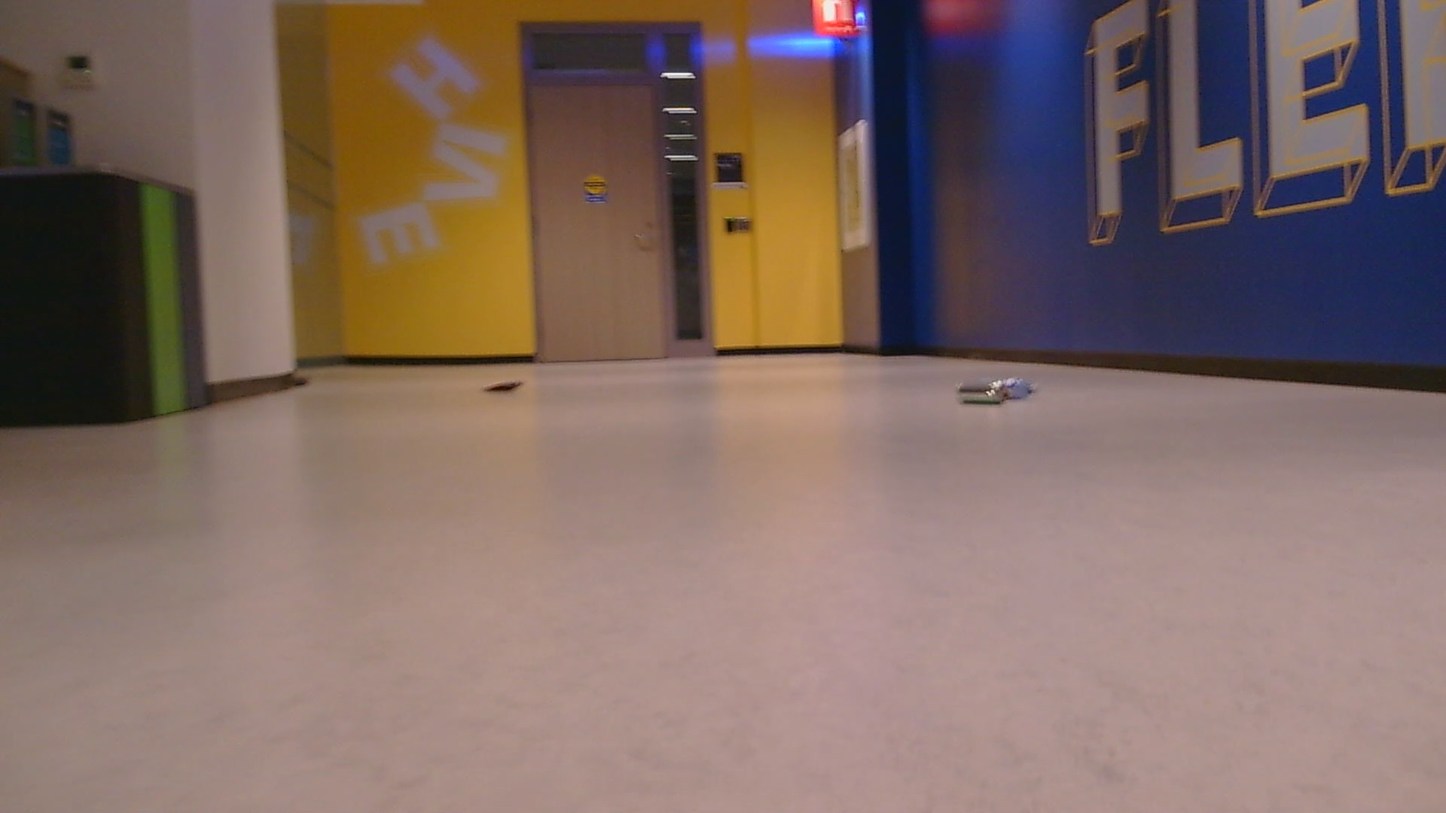can: (954, 367, 1040, 407), (476, 359, 535, 396)
